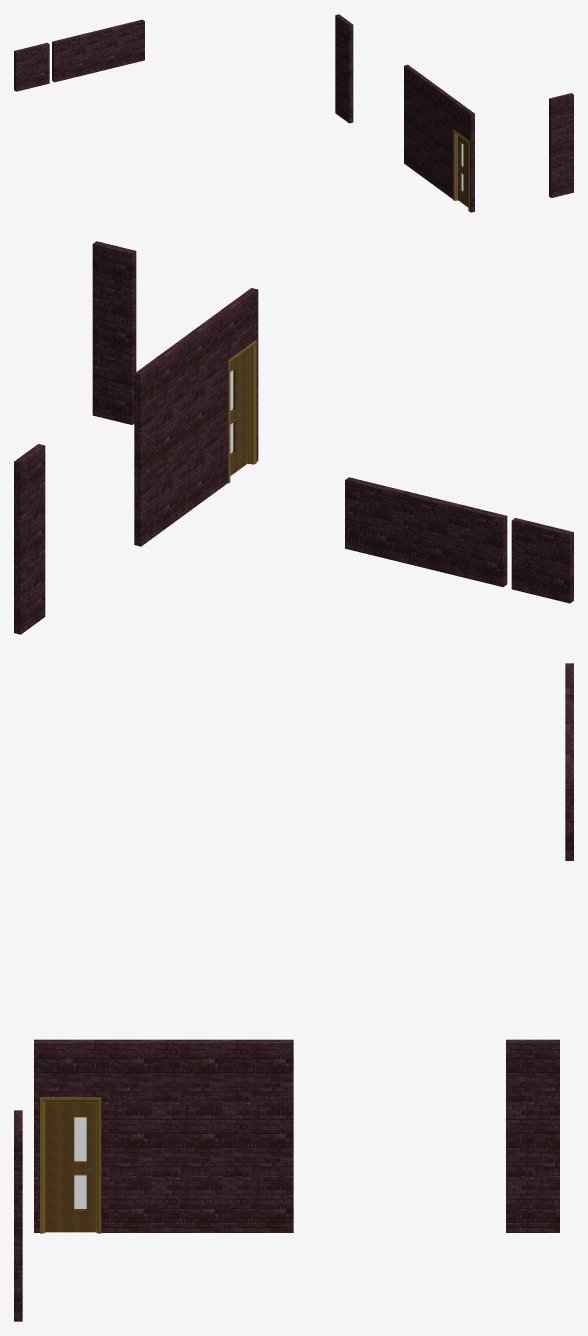
The picture shows the model from 3 angles, top to bottom: view 1: azimuth 30°, elevation 25°; view 2: azimuth 150°, elevation 25°; view 3: azimuth 270°, elevation 25°; orthographic projection. The views are drawn at different scales.
Parts seen in each view (by area): view 1: Basic Wall Wall-Ext_215Bwk [648835]001, Basic Wall Wall-Ext_215Bwk [668626]001, Basic Wall Wall-Ext_215Bwk [648546]001, Basic Wall Wall-Ext_215Bwk [648112]001, Basic Wall Wall-Ext_215Bwk [668444]001, Doors_IntSgl_3 810x2110mm [649221]001; view 2: Basic Wall Wall-Ext_215Bwk [648835]001, Basic Wall Wall-Ext_215Bwk [668626]001, Basic Wall Wall-Ext_215Bwk [648546]001, Basic Wall Wall-Ext_215Bwk [648112]001, Basic Wall Wall-Ext_215Bwk [668444]001, Doors_IntSgl_3 810x2110mm [649221]001; view 3: Basic Wall Wall-Ext_215Bwk [648835]001, Basic Wall Wall-Ext_215Bwk [648112]001, Doors_IntSgl_3 810x2110mm [649221]001, Basic Wall Wall-Ext_215Bwk [648546]001, Basic Wall Wall-Ext_215Bwk [668626]001.
Part boxes in pixels (box(x1,y1,x2,y2)): Basic Wall Wall-Ext_215Bwk [648835]001: box(404, 64, 474, 212); Basic Wall Wall-Ext_215Bwk [668626]001: box(52, 19, 144, 82); Basic Wall Wall-Ext_215Bwk [648546]001: box(549, 93, 573, 197); Basic Wall Wall-Ext_215Bwk [648112]001: box(335, 14, 353, 123); Basic Wall Wall-Ext_215Bwk [668444]001: box(14, 42, 49, 91); Doors_IntSgl_3 810x2110mm [649221]001: box(453, 130, 469, 211); Basic Wall Wall-Ext_215Bwk [648835]001: box(134, 288, 258, 546); Basic Wall Wall-Ext_215Bwk [668626]001: box(345, 477, 507, 587); Basic Wall Wall-Ext_215Bwk [648546]001: box(92, 241, 136, 424); Basic Wall Wall-Ext_215Bwk [648112]001: box(14, 444, 45, 634); Basic Wall Wall-Ext_215Bwk [668444]001: box(511, 518, 573, 603); Doors_IntSgl_3 810x2110mm [649221]001: box(228, 340, 256, 483); Basic Wall Wall-Ext_215Bwk [648835]001: box(34, 1039, 293, 1232); Basic Wall Wall-Ext_215Bwk [648112]001: box(506, 1039, 559, 1232); Doors_IntSgl_3 810x2110mm [649221]001: box(40, 1097, 101, 1233); Basic Wall Wall-Ext_215Bwk [648546]001: box(14, 1110, 22, 1321); Basic Wall Wall-Ext_215Bwk [668626]001: box(565, 699, 573, 860).
Bounding box in the file's own units: 13.3 × 4.2 × 8.02.
Materials: 6 (4 with a texture image).
